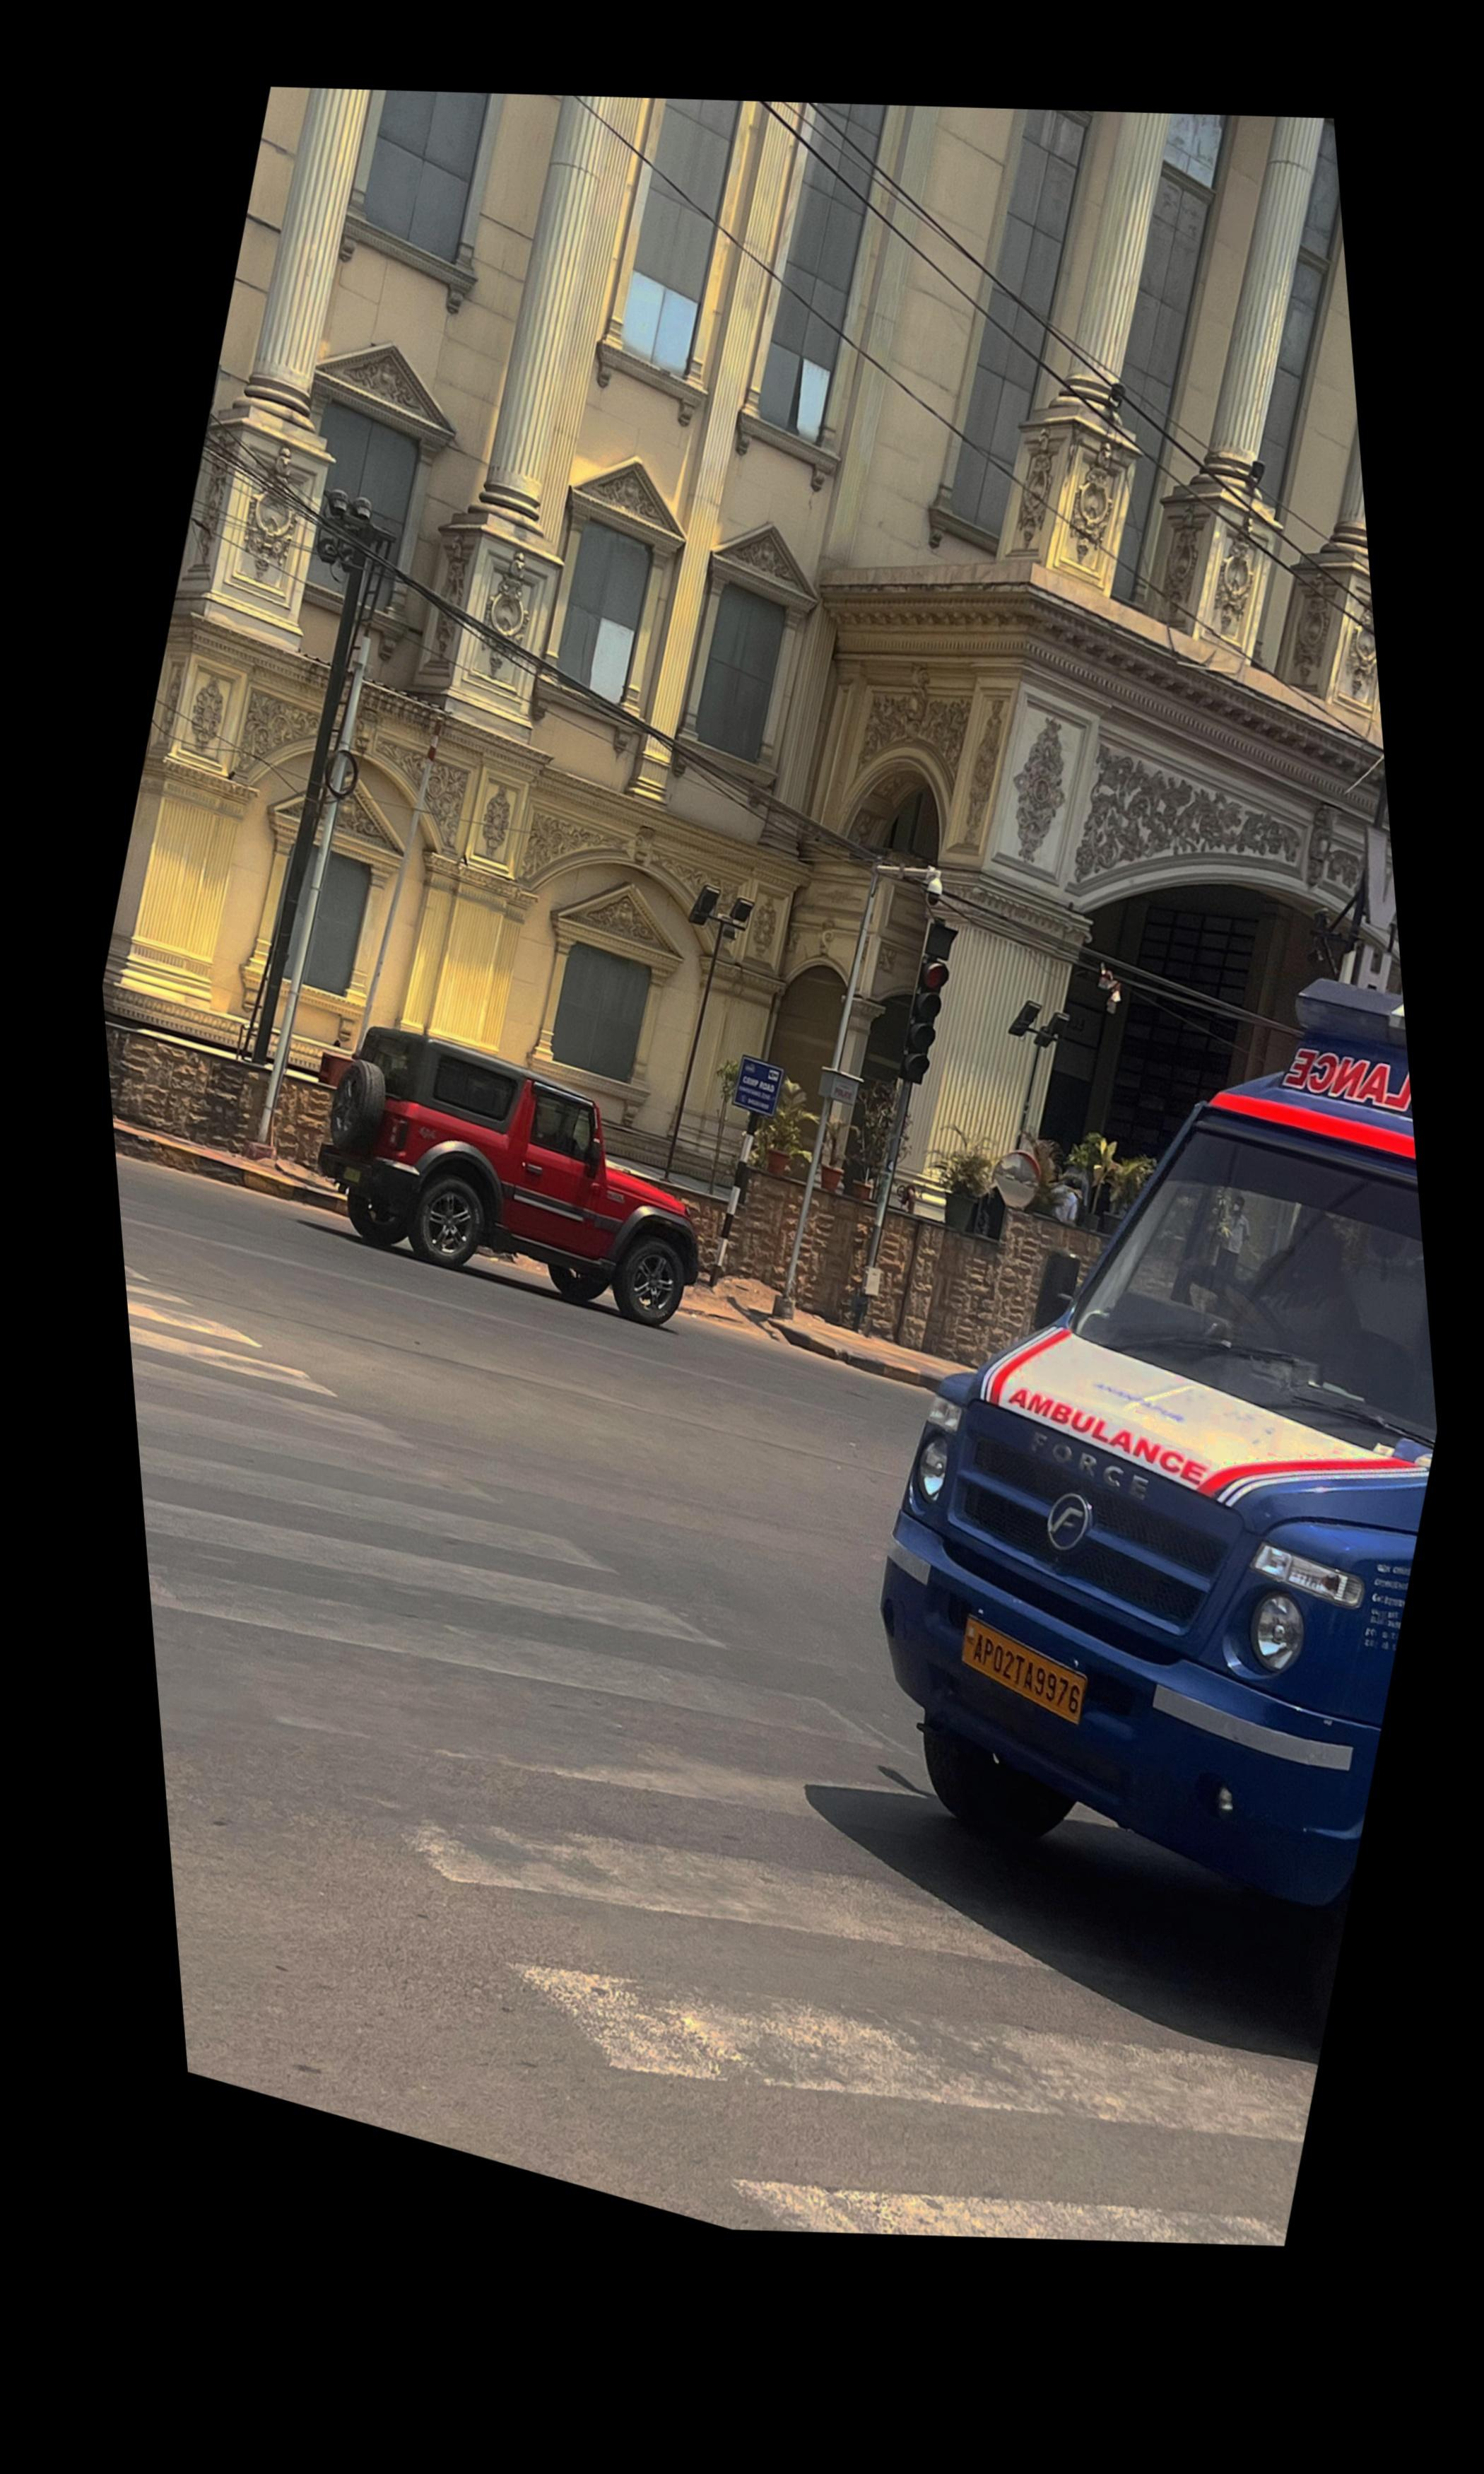ambulance: (876, 981, 1435, 1919)
